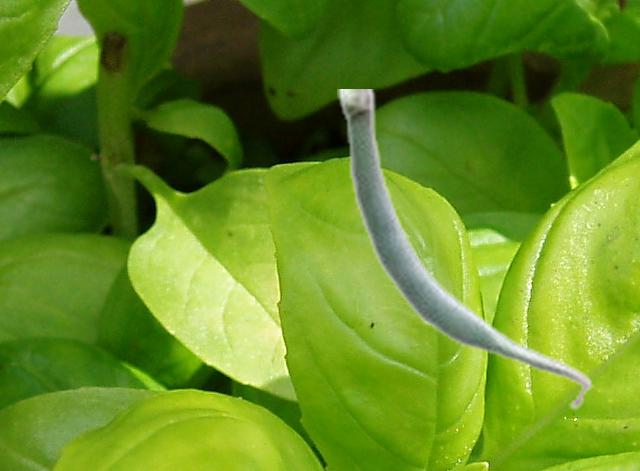french_bean: (337, 89, 592, 411)
